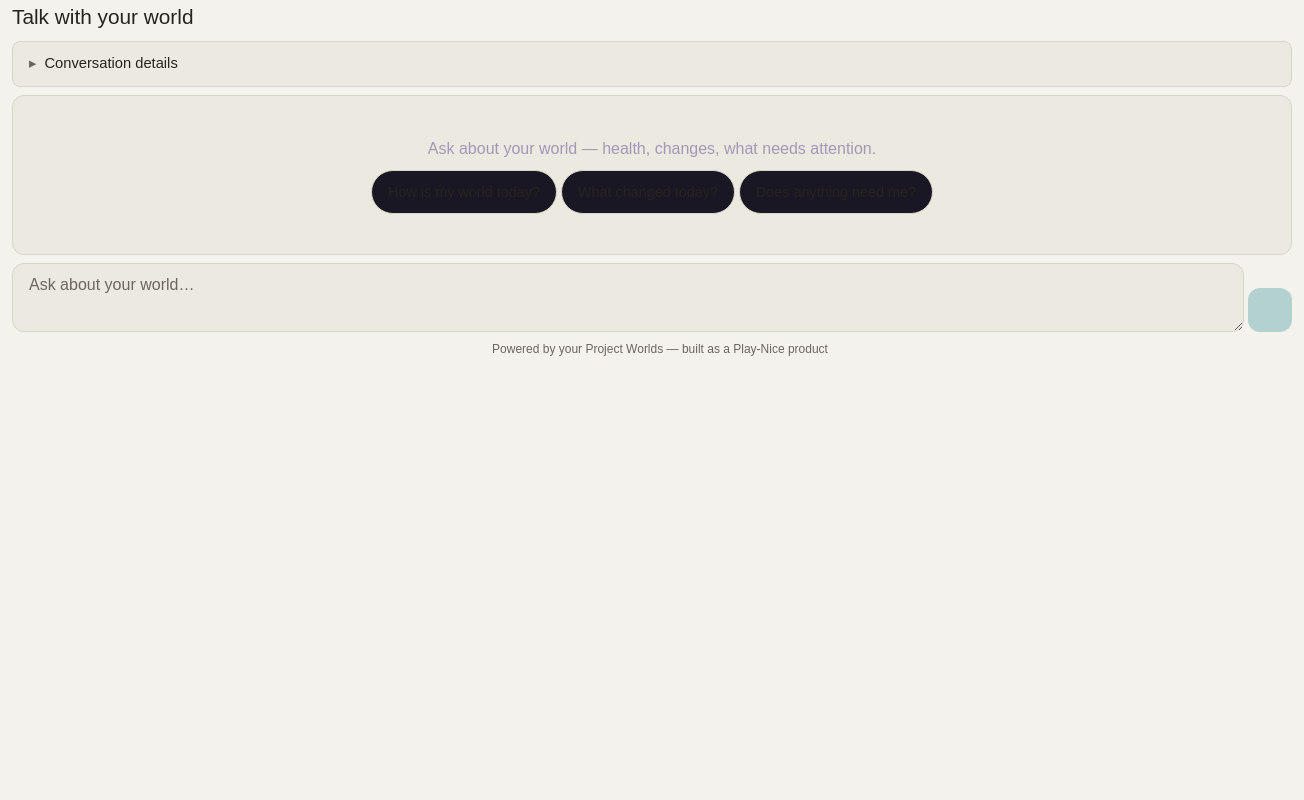
Test: ChatPanel assistant-drafted correction suggestions (suggestion is not authorization) › Not now dismisses the suggestion; the reply text stays
In the text box named "Message": [628, 298] box [12,263,1244,332], type "check my journal"
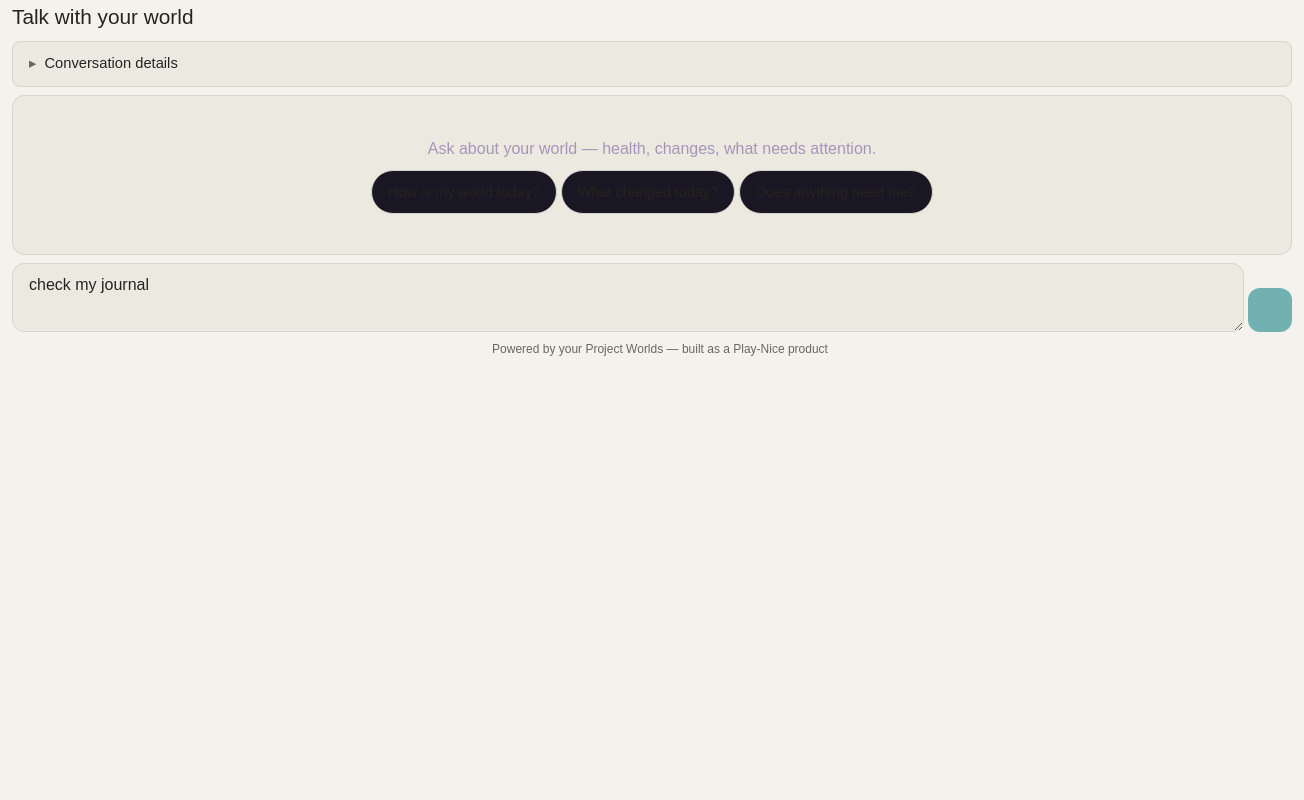
Submit the form named "Message", box [12,263,1292,332]
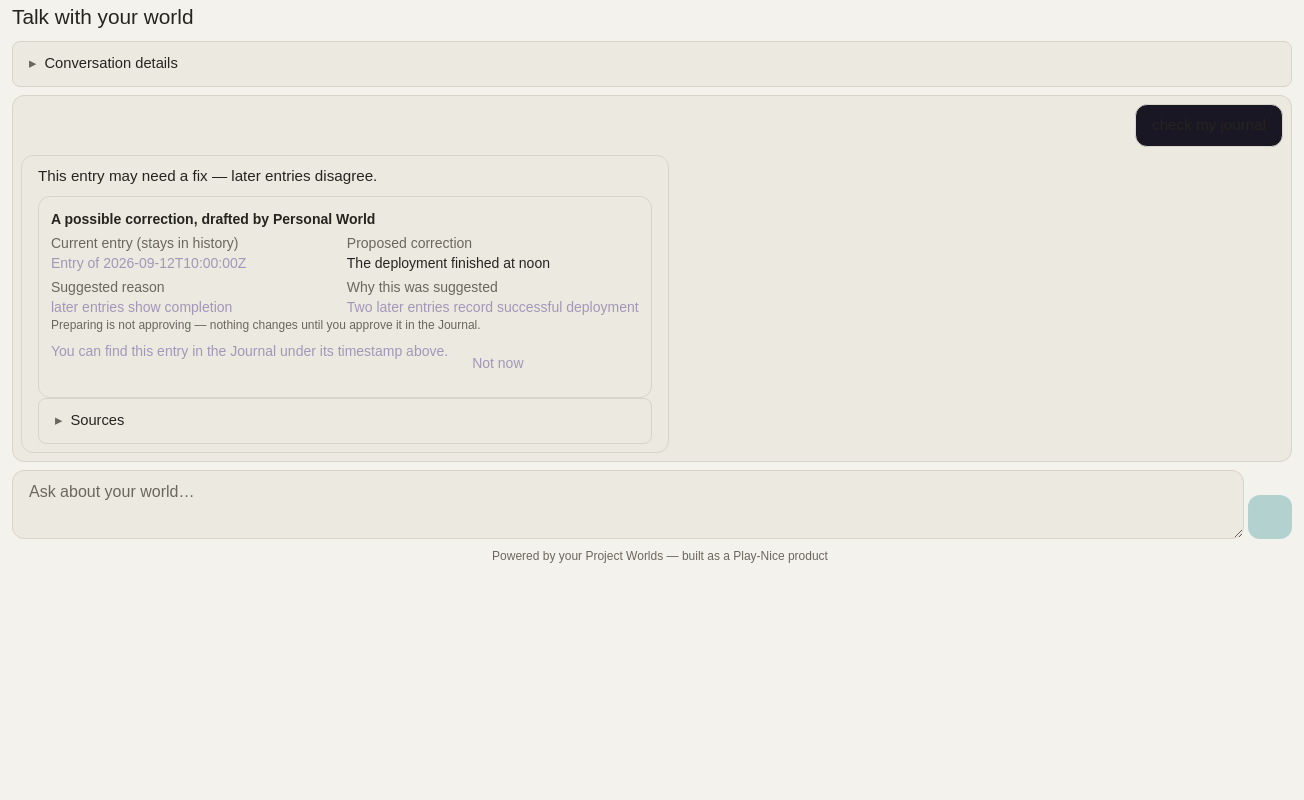
Expected: the text "This entry may need a fix — later entries disagree." is shown, [38,167,377,184]
Click the button "Not now": [498, 363] box [456,341,540,385]
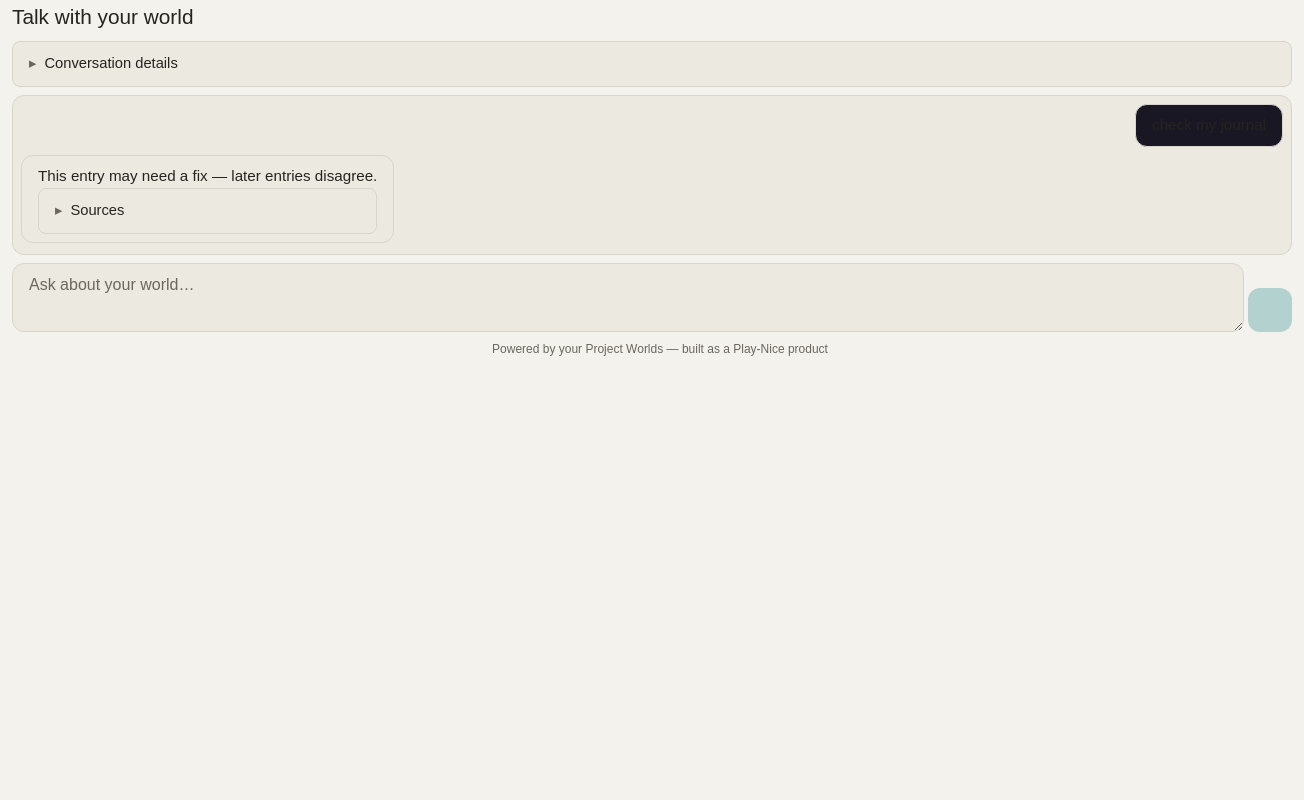
Expected: the text "This entry may need a fix — later entries disagree." is shown, [38,164,377,188]
Expected: the text "drafted by Personal World" is gone
